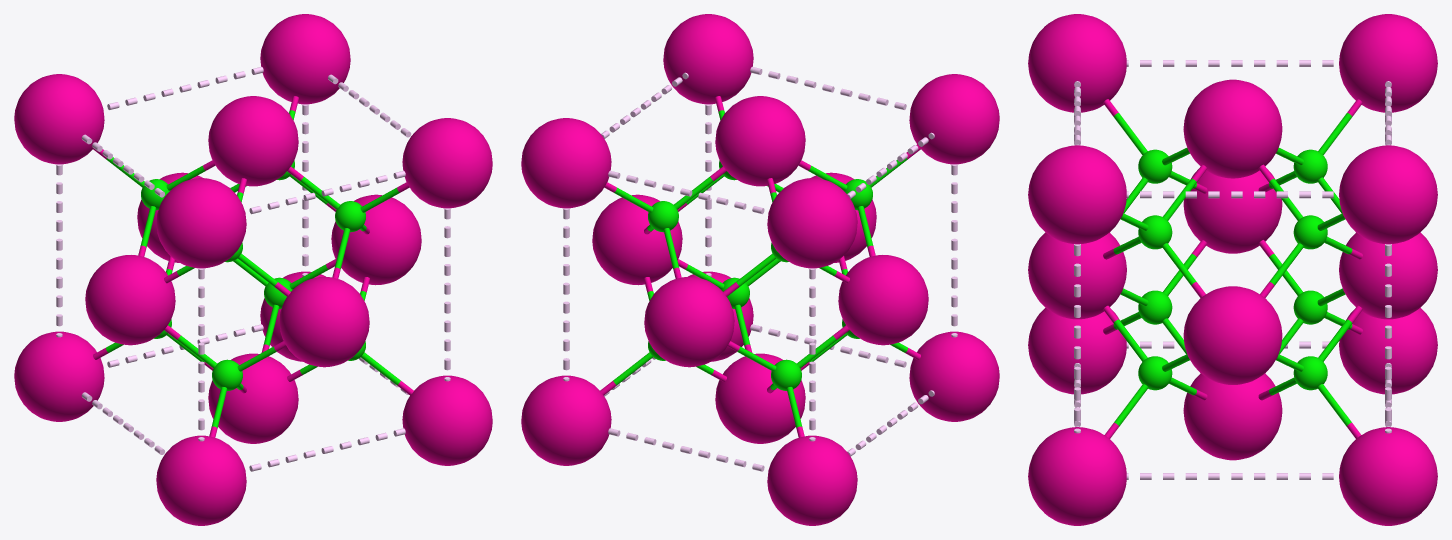
The model's file is fluorite_covalent.glb.
The picture shows the model from 3 angles, left to right: view 1: azimuth 30°, elevation 25°; view 2: azimuth 150°, elevation 25°; view 3: azimuth 270°, elevation 25°; orthographic projection. The views are drawn at different scales.
Visible parts, largest first — view 1: Ca06, Ca04, Ca17, Ca01, Ca14, Ca03, Ca07, Ca12, Ca21, Ca09, Ca05, Ca15 (+15 smaller); view 2: Ca12, Ca11, Ca21, Ca09, Ca19, Ca07, Ca03, Ca06, Ca17, Ca01, Ca05, Ca15 (+15 smaller); view 3: Ca17, Ca21, Ca15, Ca14, Ca19, Ca07, Ca06, Ca12, Ca05, Ca04, Ca11, Ca01 (+24 smaller).
Boxes of the visible parts, x1,y1,x2,y2 form: Ca06: (156,178,246,268); Ca04: (279,276,369,367); Ca17: (402,118,492,208); Ca01: (156,435,246,525); Ca14: (402,375,492,465); Ca03: (85,255,175,345); Ca07: (208,96,298,186); Ca12: (14,74,104,164); Ca21: (260,14,350,104); Ca09: (14,331,104,421); Ca05: (208,353,298,443); Ca15: (331,194,421,285); Ca12: (767,178,857,268); Ca11: (644,276,734,367); Ca21: (521,118,611,208); Ca09: (767,435,857,525); Ca19: (521,375,611,465); Ca07: (715,96,805,186); Ca03: (838,255,928,345); Ca06: (909,74,999,164); Ca17: (663,14,753,104); Ca01: (909,331,999,421); Ca05: (715,353,805,443); Ca15: (592,194,682,285); Ca17: (1028,145,1126,244); Ca21: (1339,145,1437,244); Ca15: (1183,286,1282,384); Ca14: (1028,427,1126,525); Ca19: (1339,427,1437,525); Ca07: (1183,79,1282,178); Ca06: (1028,14,1126,112); Ca12: (1339,14,1437,112); Ca05: (1183,373,1282,460); Ca04: (1028,232,1126,319); Ca11: (1339,232,1437,319); Ca01: (1028,308,1126,394).
Size of the model in its own units: 7.2 by 7.2 by 7.2.
